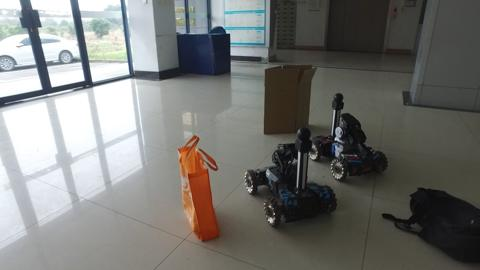bag: (178, 133, 219, 240)
box: (265, 61, 312, 131)
chariot: (241, 124, 341, 230), (310, 89, 392, 182)
